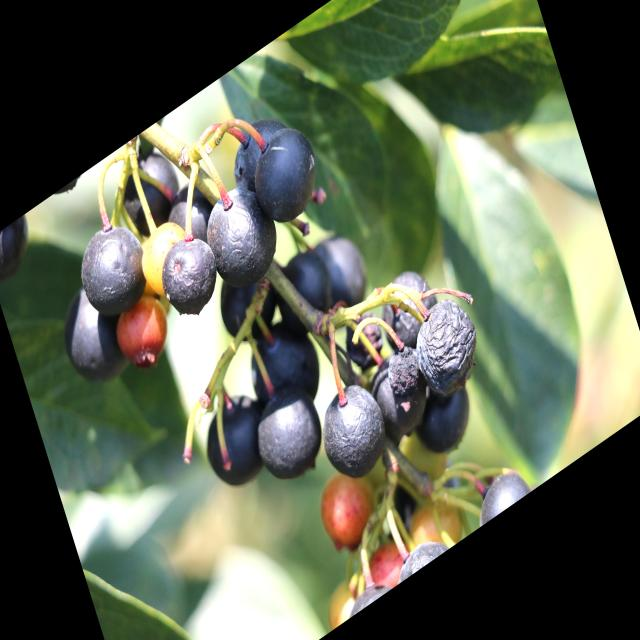blueberry: (244, 366, 330, 501), (198, 173, 283, 302), (52, 267, 136, 397), (242, 306, 326, 425), (196, 380, 275, 501), (248, 116, 327, 234), (70, 210, 150, 324), (408, 289, 484, 402), (314, 376, 388, 488), (224, 105, 299, 207), (112, 142, 182, 238), (309, 216, 373, 320), (272, 234, 336, 334), (156, 228, 224, 321), (411, 372, 478, 464), (367, 348, 429, 446), (376, 258, 437, 354), (162, 172, 224, 262), (217, 258, 280, 346), (469, 460, 529, 528), (0, 211, 43, 288), (340, 306, 385, 372), (386, 341, 430, 402), (396, 527, 444, 581)
blueberry-halfripe: (312, 453, 384, 559), (112, 281, 177, 378)
